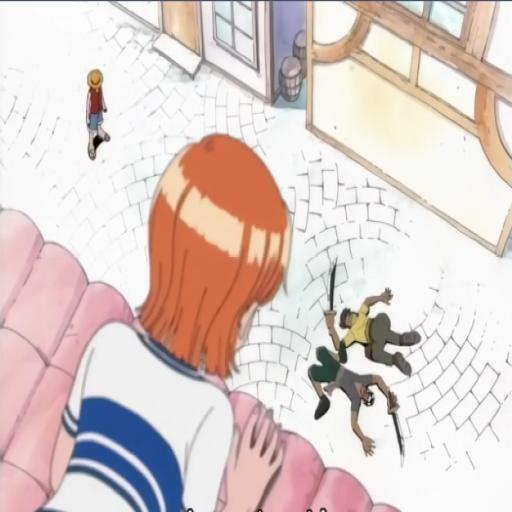Luffy: (74, 44, 111, 180)
Nami: (43, 114, 314, 512)
